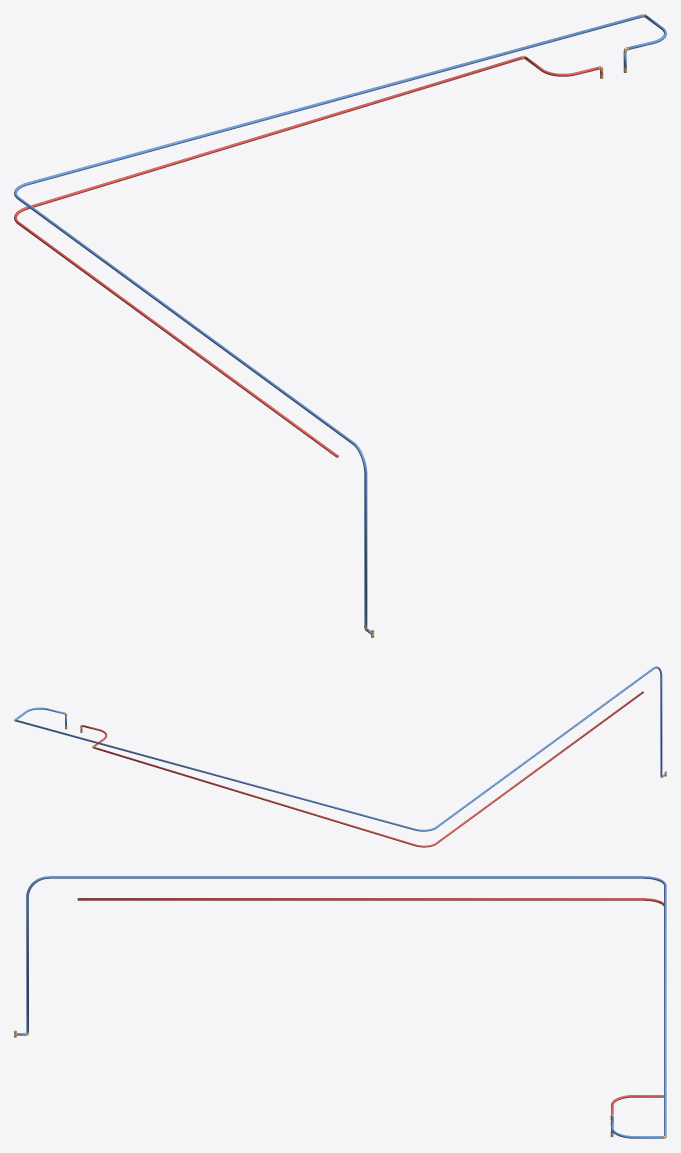
The model's file is slab_pipes_supply__water_heater-garage_gas_tank_and_plumbing-pex_branch.glb.
The picture shows the model from 3 angles, top to bottom: view 1: azimuth 30°, elevation 25°; view 2: azimuth 150°, elevation 25°; view 3: azimuth 270°, elevation 25°; orthographic projection. The views are drawn at different scales.
Visible parts, largest first — view 1: pipe_supply_tb_cold_wh_garage_tank, pipe_supply_tb_hot_wh_garage_tank; view 2: pipe_supply_tb_cold_wh_garage_tank, pipe_supply_tb_hot_wh_garage_tank; view 3: pipe_supply_tb_cold_wh_garage_tank, pipe_supply_tb_hot_wh_garage_tank.
Boxes of the visible parts, box(x1,y1,x2,y2) form: pipe_supply_tb_cold_wh_garage_tank: box(14, 14, 666, 633); pipe_supply_tb_hot_wh_garage_tank: box(14, 56, 602, 457); pipe_supply_tb_cold_wh_garage_tank: box(15, 666, 665, 831); pipe_supply_tb_hot_wh_garage_tank: box(80, 691, 643, 847); pipe_supply_tb_cold_wh_garage_tank: box(17, 876, 666, 1138); pipe_supply_tb_hot_wh_garage_tank: box(77, 898, 663, 1114).
Bounding box in the file's own units: 5.42 × 1.62 × 5.39.
